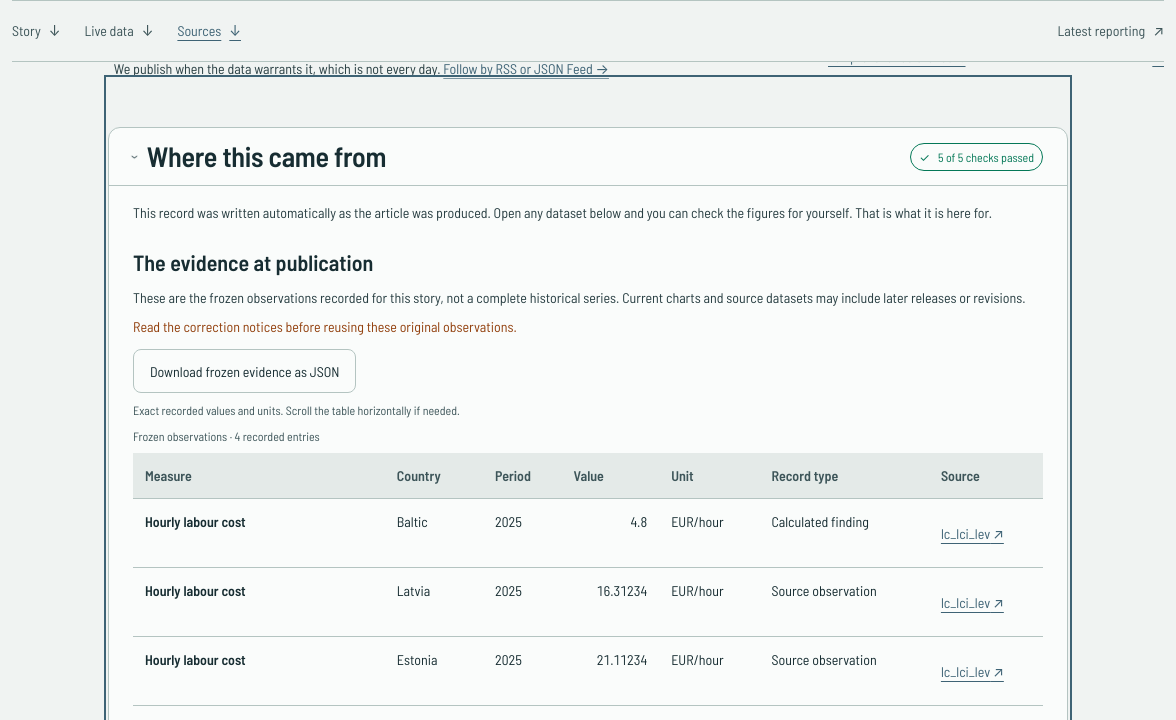
Test case: the frozen publication record › exports the frozen records losslessly, with publication, source and correction context
This screenshot has width=1176, height=720.
(page scrolled)
Click the button "Download frozen evidence as JSON" at x=245, y=371, box [133,349,356,393]
(page scrolled)
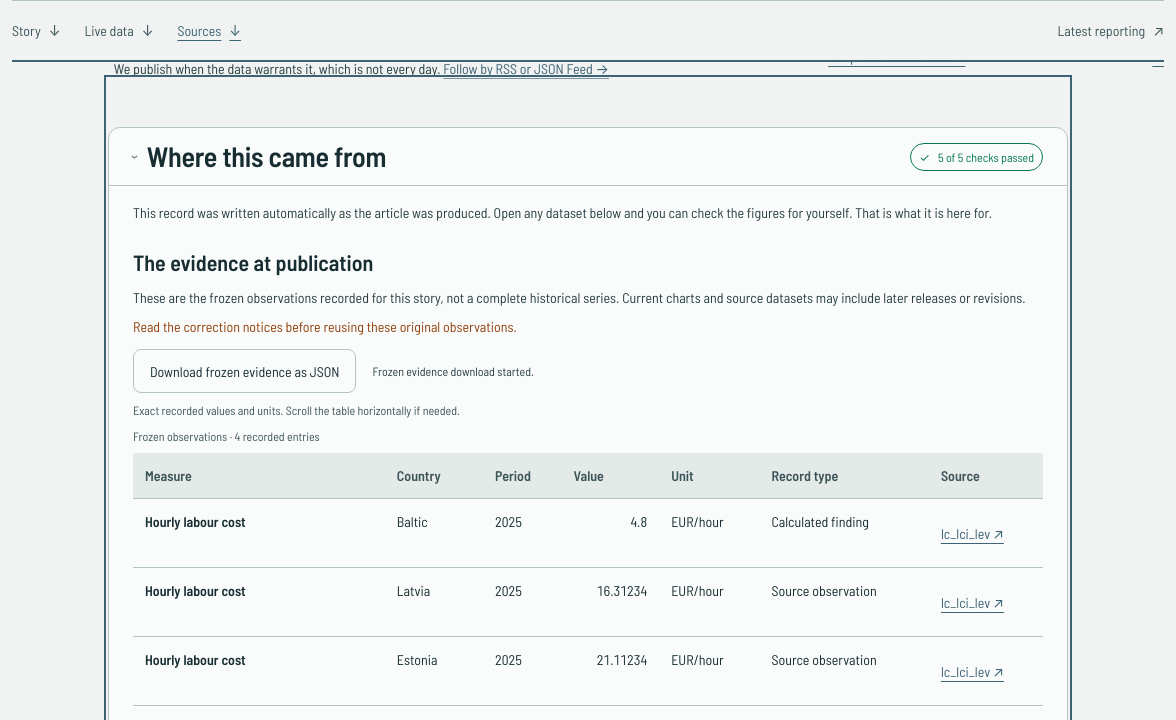
Expected: the text "Read the correction notices before reusing" is shown, [133,318,517,335]
Expected: the message with test id "frozen-download-status" shows "download started", [372,364,534,378]
